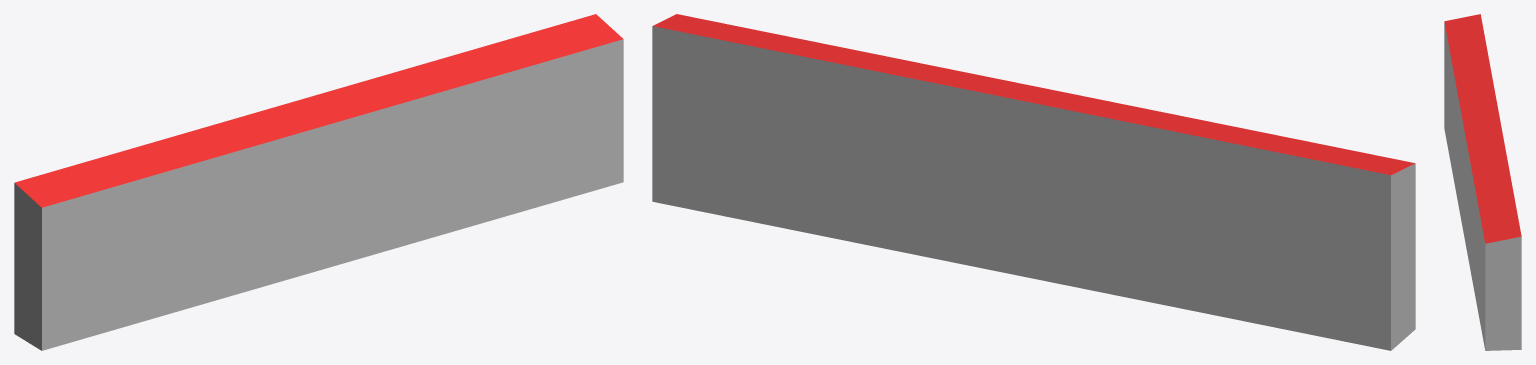
The model's file is DEBE3D04YY50002clD.dae.
The picture shows the model from 3 angles, left to right: view 1: azimuth 30°, elevation 25°; view 2: azimuth 150°, elevation 25°; view 3: azimuth 270°, elevation 25°; orthographic projection. The views are drawn at different scales.
Size of the model in its own units: 22.99 by 3.36 by 5.43.
